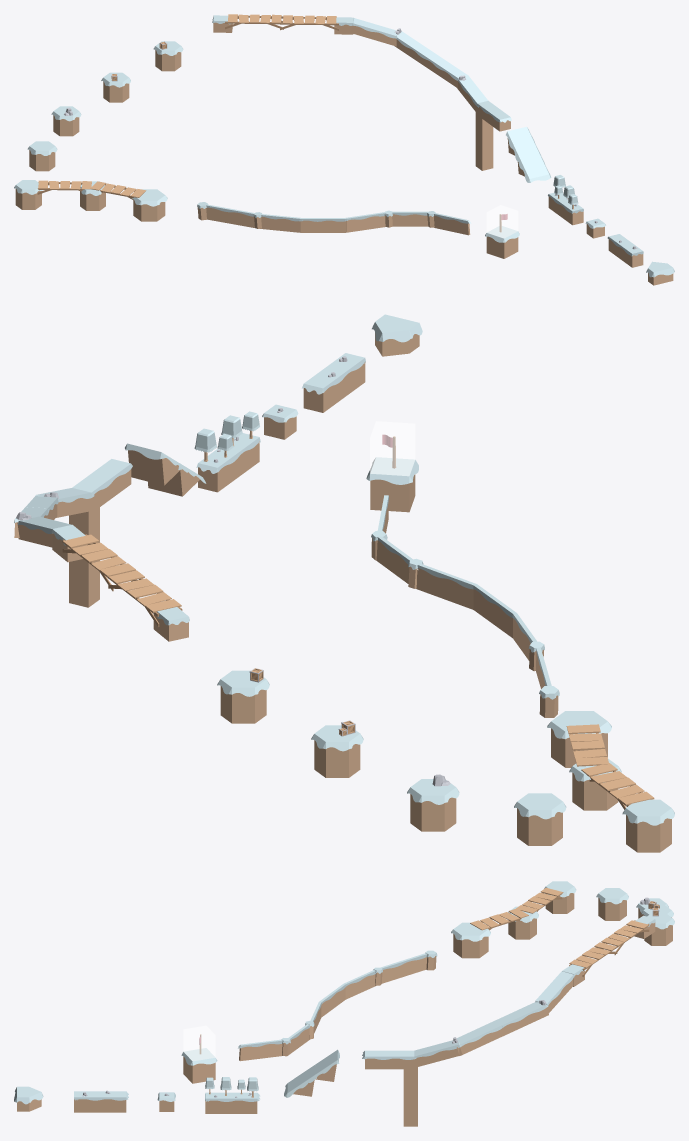
Rendered from map2.glb.
The picture shows the model from 3 angles, top to bottom: view 1: azimuth 30°, elevation 25°; view 2: azimuth 150°, elevation 25°; view 3: azimuth 270°, elevation 25°; orthographic projection. The views are drawn at different scales.
Parts seen in each view (by area): view 1: Mesh blockSnowHexagon_0 (×7), Mesh_blockSnowLarge_0 (×6), Mesh bridge_0 (×4), Mesh_blockSnowSlope_0 (×2), blockDirtHalf(Clone), end, Mesh_blockSnow_0, Mesh blockSnowHexagon_1, Mesh_blockSnowLarge_1; view 2: Mesh blockSnowHexagon_0 (×6), Mesh blockSnowHexagon_1 (×6), Mesh bridge_0 (×4), Mesh_blockSnowLarge_0 (×4), Mesh_blockSnowLarge_1 (×3), end, blockDirtHalf(Clone), Mesh_blockSnow_0, Mesh_blockSnowSlope_1, Mesh_blockSnow_1, Mesh_blockSnowEnd_1; view 3: Mesh_blockSnowLarge_0 (×9), Mesh_blockSnowLarge_1 (×7), Mesh blockSnowHexagon_0 (×5), Mesh bridge_0 (×4), end, Mesh blockSnowHexagon_1 (×2), blockDirtHalf(Clone), Mesh_blockSnow_0, Mesh_blockSnowSlope_0, Mesh_blockSnow_1, Mesh_blockSnowEnd_1.
Part boxes in pixels (x1,y1,x2,y2): Mesh blockSnowHexagon_0 (×7): [15, 50, 181, 221]; Mesh_blockSnowLarge_0 (×6): [206, 207, 470, 235]; Mesh bridge_0 (×4): [38, 14, 336, 197]; Mesh_blockSnowSlope_0 (×2): [506, 126, 551, 182]; blockDirtHalf(Clone): [475, 112, 493, 170]; end: [486, 205, 518, 238]; Mesh_blockSnow_0: [486, 236, 518, 258]; Mesh blockSnowHexagon_1: [132, 189, 167, 206]; Mesh_blockSnowLarge_1: [426, 53, 466, 80]; Mesh blockSnowHexagon_0 (×6): [220, 686, 671, 852]; Mesh blockSnowHexagon_1 (×6): [217, 670, 674, 825]; Mesh bridge_0 (×4): [63, 534, 654, 805]; Mesh_blockSnowLarge_0 (×4): [198, 365, 512, 638]; Mesh_blockSnowLarge_1 (×3): [72, 354, 363, 496]; end: [370, 421, 415, 476]; blockDirtHalf(Clone): [69, 507, 99, 607]; Mesh_blockSnow_0: [370, 474, 415, 512]; Mesh_blockSnowSlope_1: [128, 450, 179, 485]; Mesh_blockSnow_1: [366, 457, 418, 484]; Mesh_blockSnowEnd_1: [372, 314, 422, 342]; Mesh_blockSnowLarge_0 (×9): [76, 957, 548, 1113]; Mesh_blockSnowLarge_1 (×7): [76, 971, 573, 1101]; Mesh blockSnowHexagon_0 (×5): [453, 893, 672, 958]; Mesh bridge_0 (×4): [470, 887, 648, 968]; end: [183, 1025, 215, 1061]; Mesh blockSnowHexagon_1 (×2): [451, 888, 628, 941]; blockDirtHalf(Clone): [403, 1067, 417, 1126]; Mesh_blockSnow_0: [183, 1056, 215, 1083]; Mesh_blockSnowSlope_0: [284, 1064, 316, 1097]; Mesh_blockSnow_1: [181, 1048, 217, 1065]; Mesh_blockSnowEnd_1: [14, 1086, 43, 1104].
Size of the model in its own units: 1052 by 268 by 1335.
